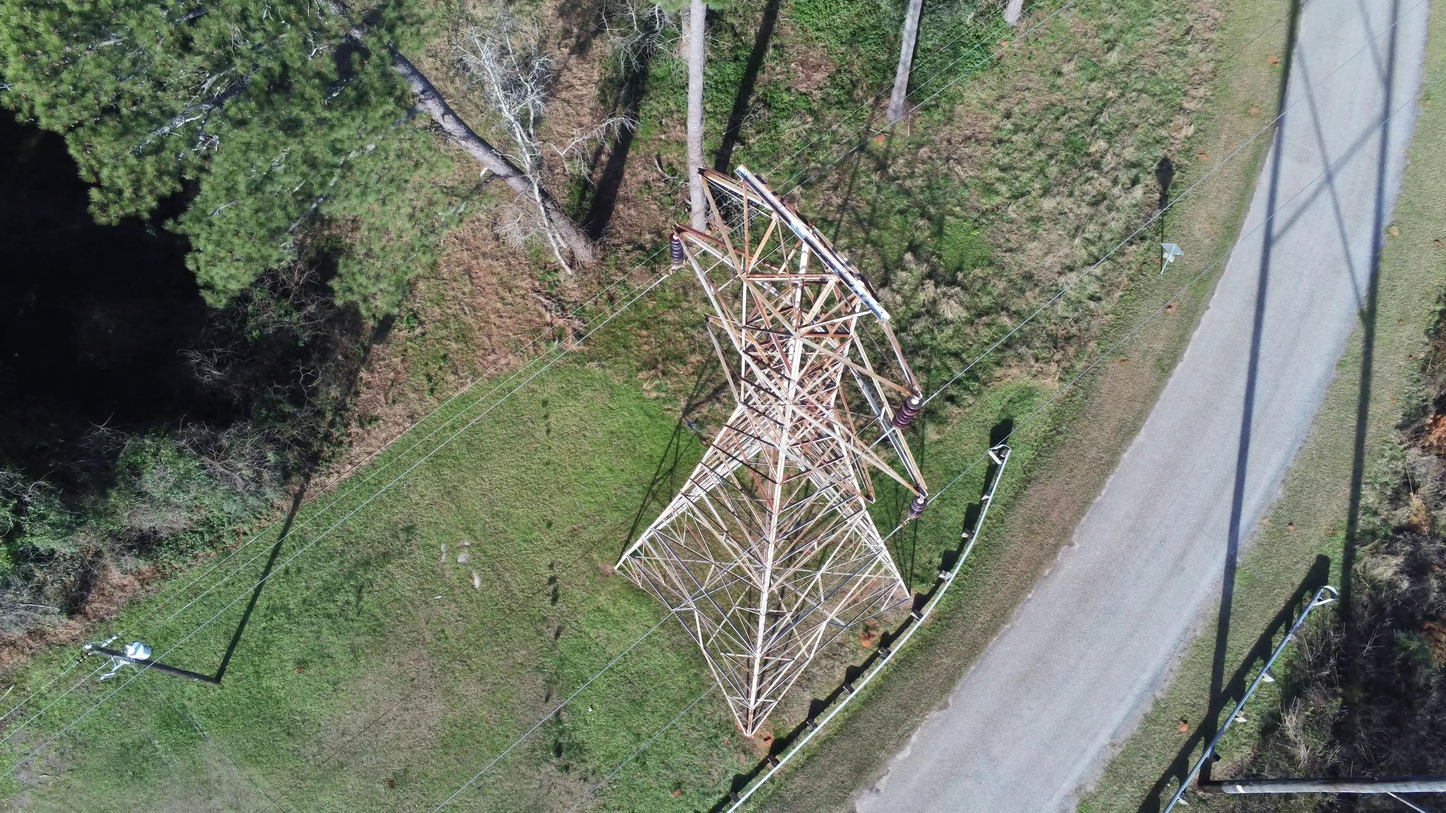power_tower: (613, 164, 941, 738)
